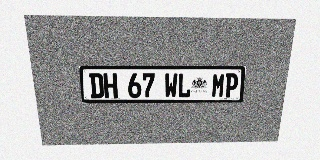6: (128, 73, 141, 98)
7: (142, 73, 155, 98)
D: (89, 73, 104, 98)
H: (103, 73, 118, 98)
L: (178, 73, 191, 98)
M: (211, 73, 226, 97)
P: (224, 73, 239, 97)
W: (164, 73, 178, 98)
